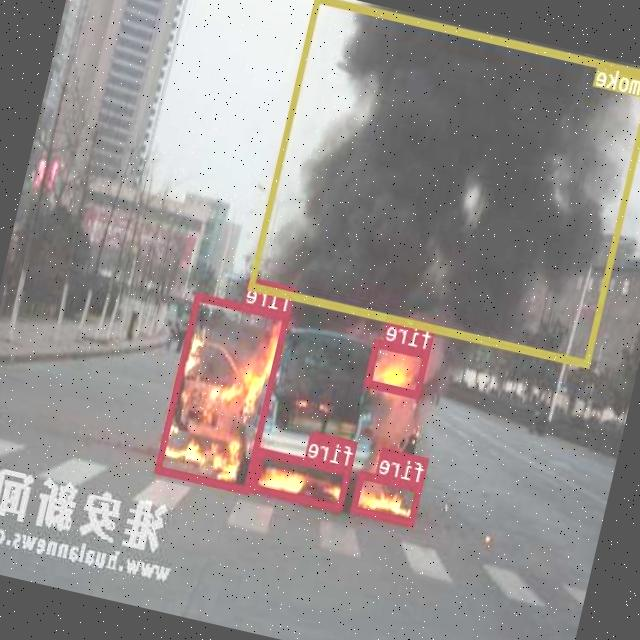fire: (157, 291, 290, 493), (252, 447, 352, 510), (351, 469, 424, 526), (365, 338, 430, 397)
smoke: (249, 0, 640, 367)
